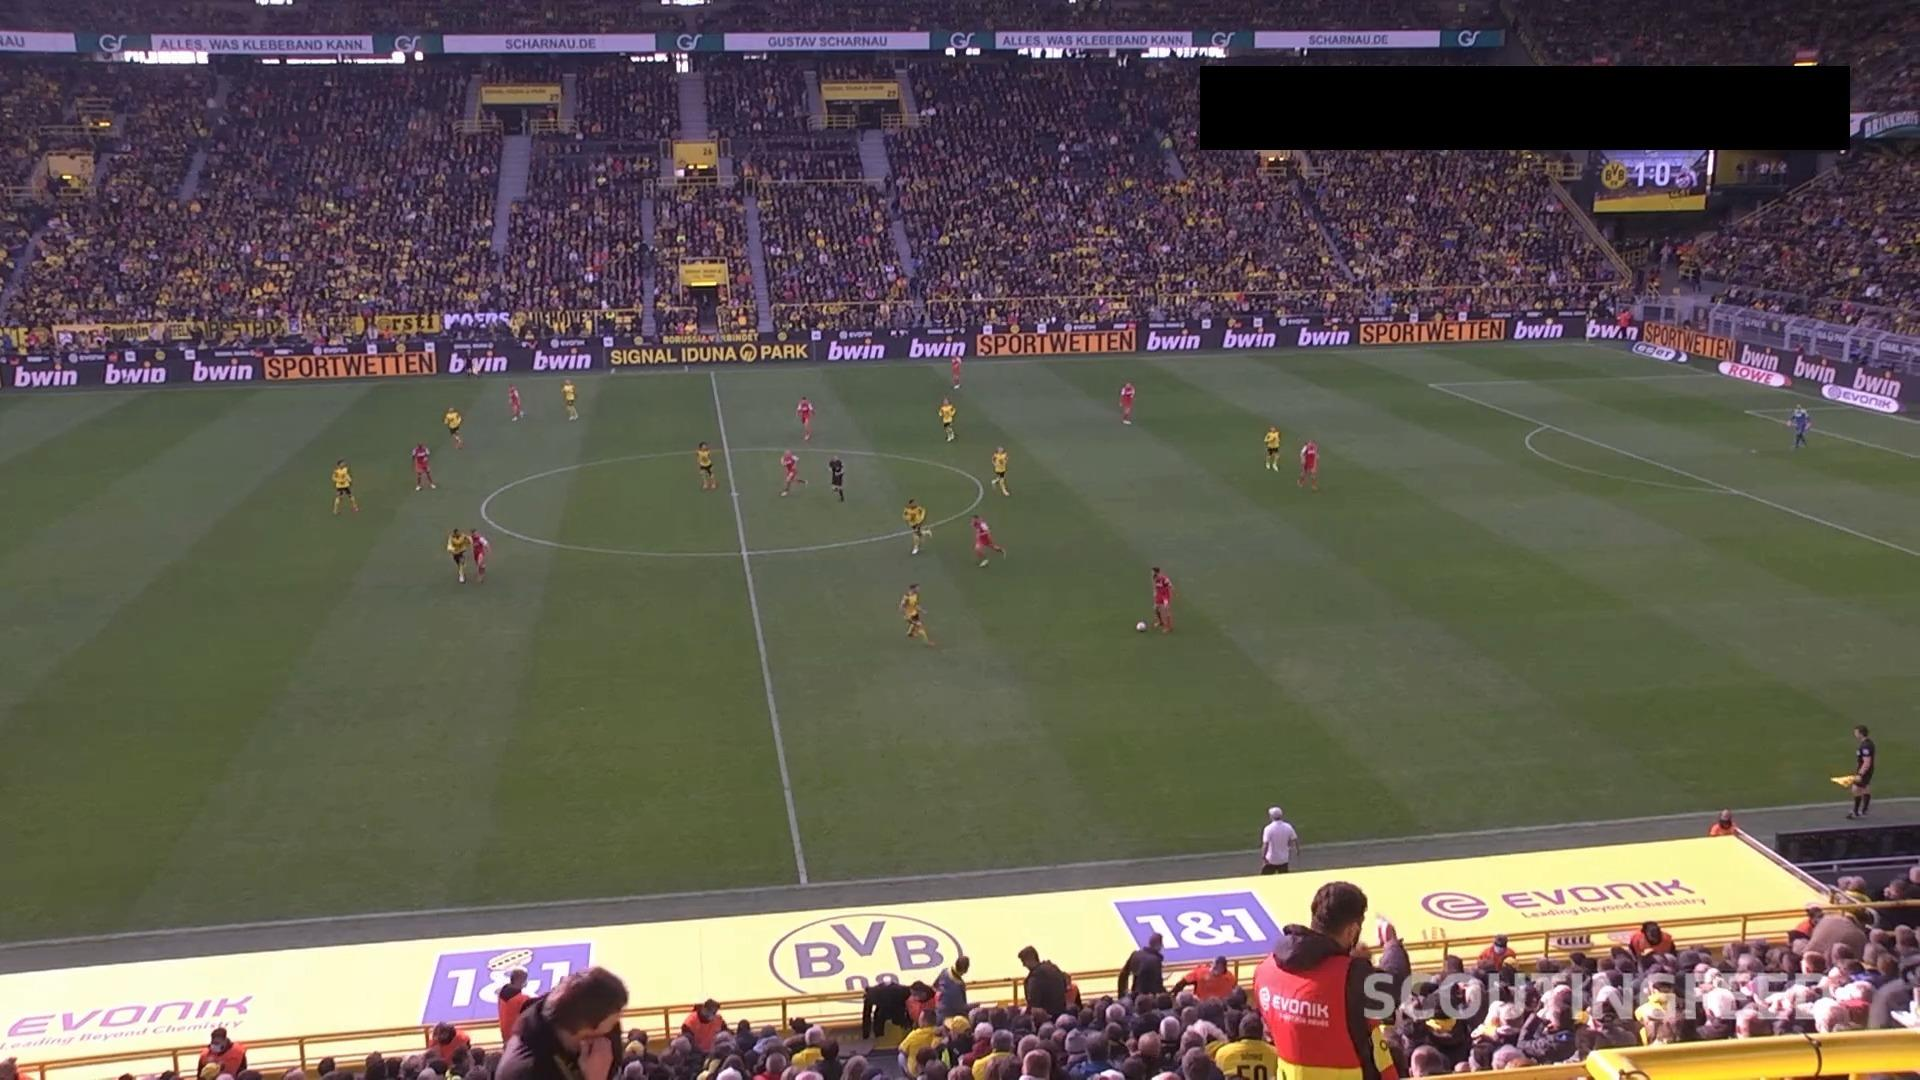ball: (1135, 621, 1147, 632)
